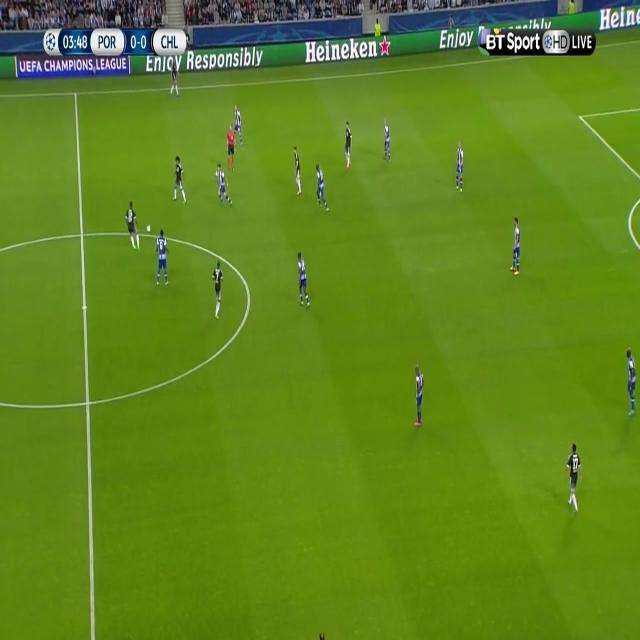Ball: (144, 222, 154, 234)
Player: (566, 439, 583, 519), (295, 247, 313, 314), (122, 197, 142, 254), (213, 161, 235, 212), (624, 346, 638, 423), (155, 225, 171, 291), (170, 154, 190, 204), (210, 258, 225, 323), (314, 160, 331, 217), (413, 362, 426, 432), (509, 213, 523, 278), (453, 140, 467, 197), (380, 113, 394, 167), (292, 142, 304, 201), (233, 102, 245, 148), (170, 61, 182, 102), (344, 120, 353, 174)
Referee: (224, 122, 236, 171)
